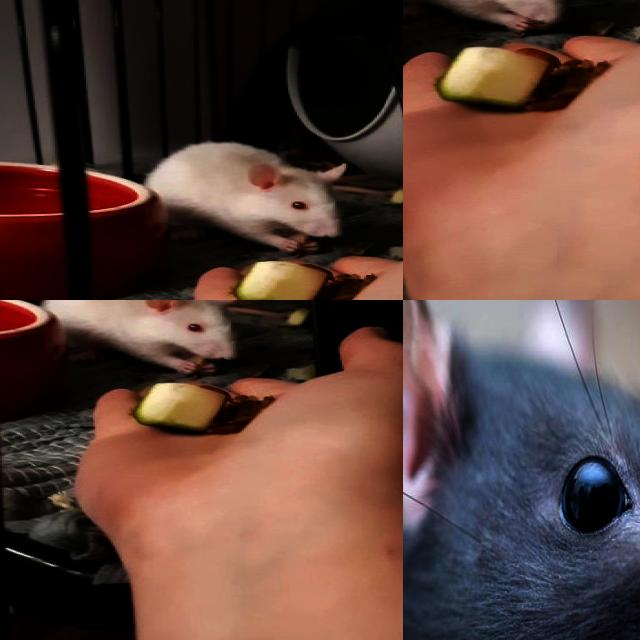rat: (403, 300, 640, 640), (150, 136, 350, 253), (38, 300, 242, 381), (403, 0, 591, 31)
